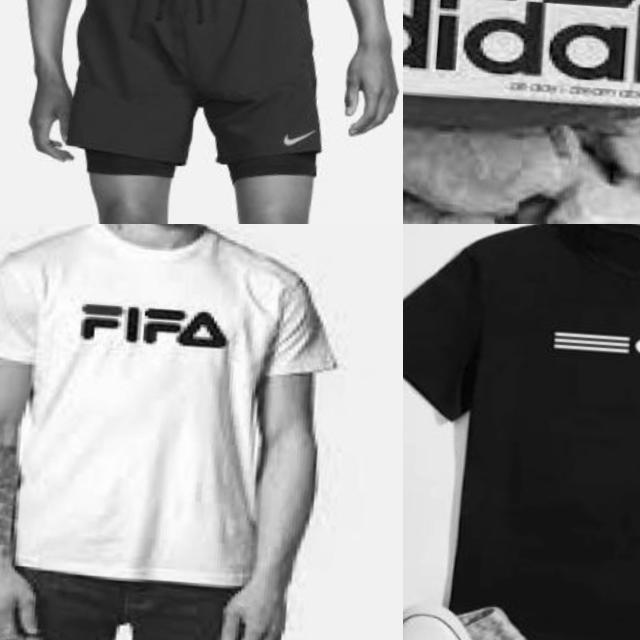ADIDAS_fake: (403, 0, 640, 109)
ADIDAS_original: (536, 320, 640, 369)
FILA_fake: (60, 278, 242, 366)
NIKE_original: (272, 116, 322, 154)
